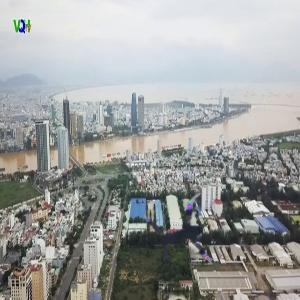drone: (149, 193, 230, 274)
